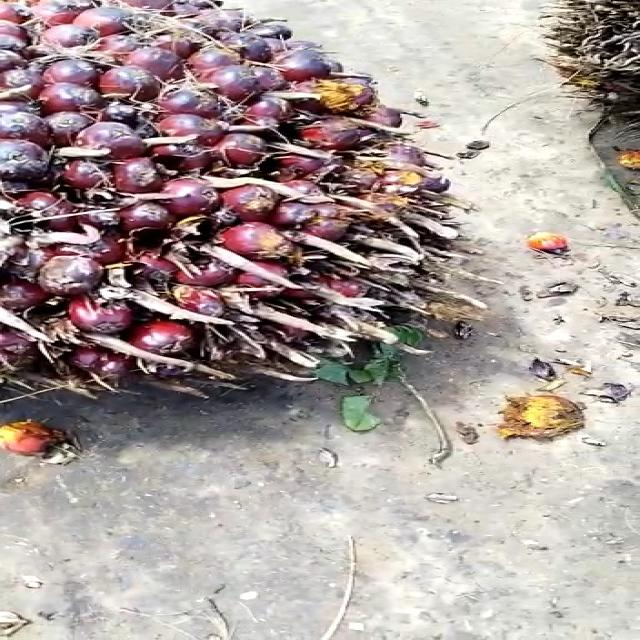palm oil: (0, 0, 532, 466)
